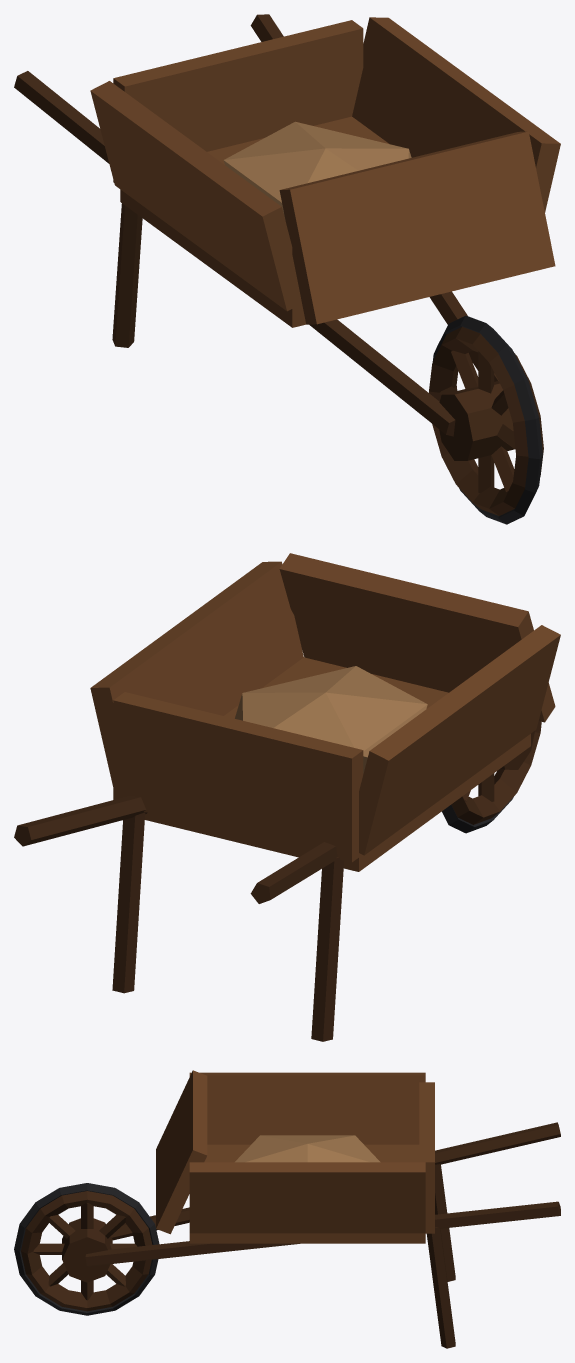
Rendered from SM_Wheelbarrow.obj.
3 views of the same model, one above another, from view 1: azimuth 30°, elevation 25°; view 2: azimuth 150°, elevation 25°; view 3: azimuth 270°, elevation 25° (orthographic). The views are drawn at different scales.
Parts seen in each view (by area): view 1: SM_Wheelbarrow; view 2: SM_Wheelbarrow; view 3: SM_Wheelbarrow.
Part boxes in pixels (x1,y1,x2,y2): SM_Wheelbarrow: (14, 14, 560, 524); SM_Wheelbarrow: (14, 553, 560, 1041); SM_Wheelbarrow: (14, 1070, 560, 1348).
Size of the model in its own units: 0.7503 by 0.7209 by 1.74.
